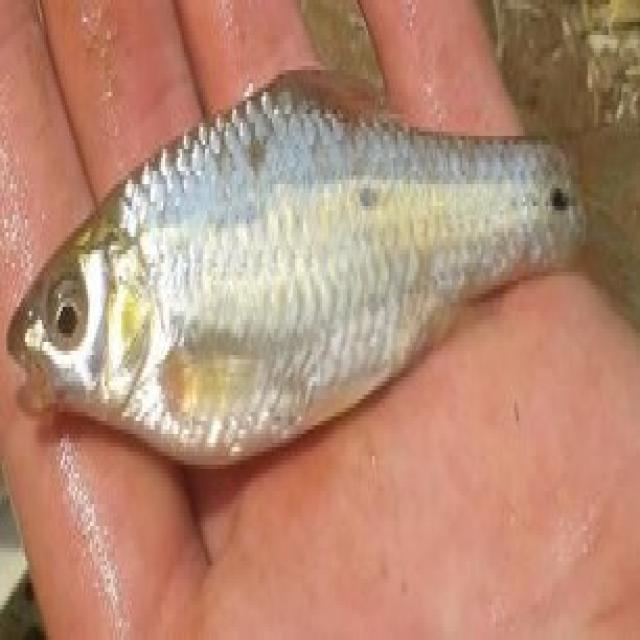Black-Spotted-Barb: (2, 35, 640, 443)
